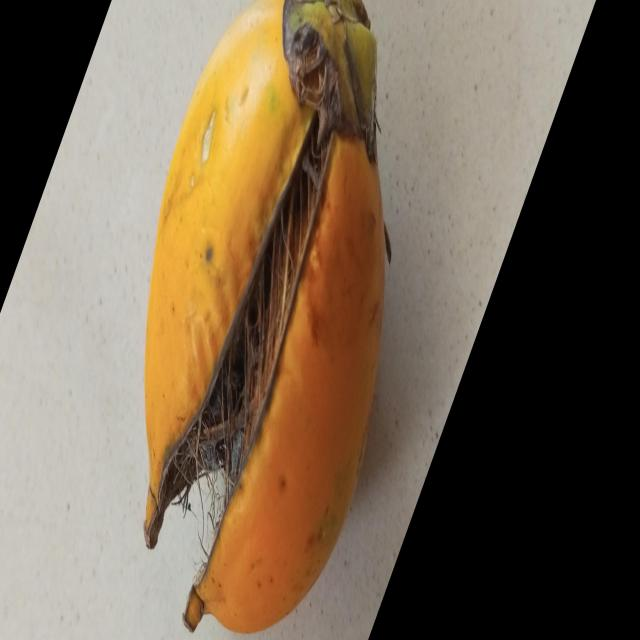damaged: (143, 0, 389, 637)
